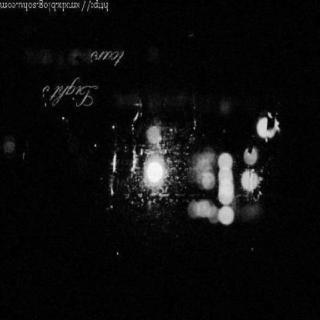other: (147, 157, 163, 184)
